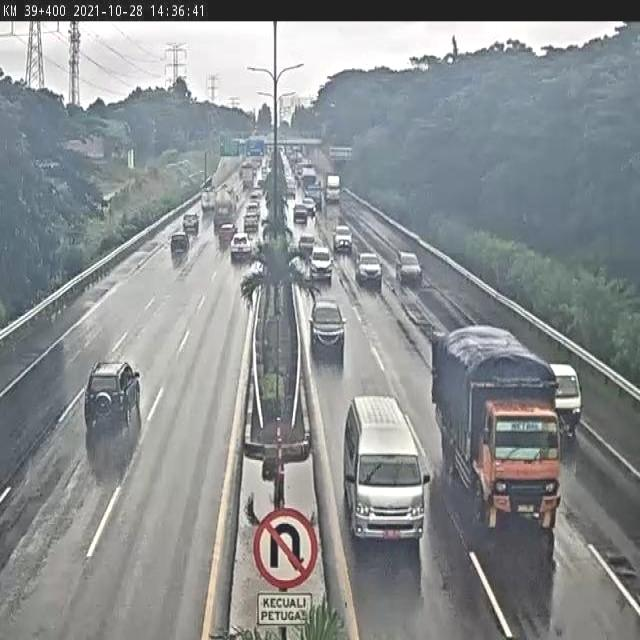Car: (83, 361, 142, 428), (308, 301, 348, 360), (354, 252, 381, 285), (308, 244, 334, 278), (394, 249, 420, 281), (230, 235, 253, 260), (168, 228, 190, 253)
Truck: (431, 325, 564, 534)
Van: (342, 394, 430, 541)
